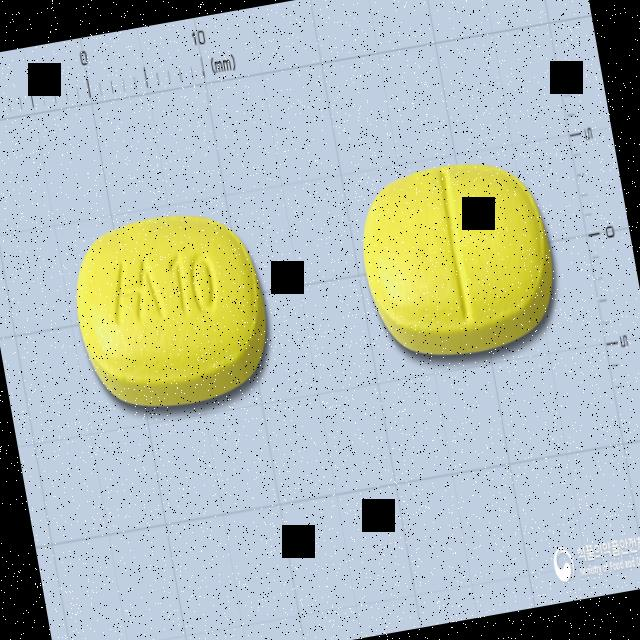Clarid - 500mg: (59, 199, 284, 430)
